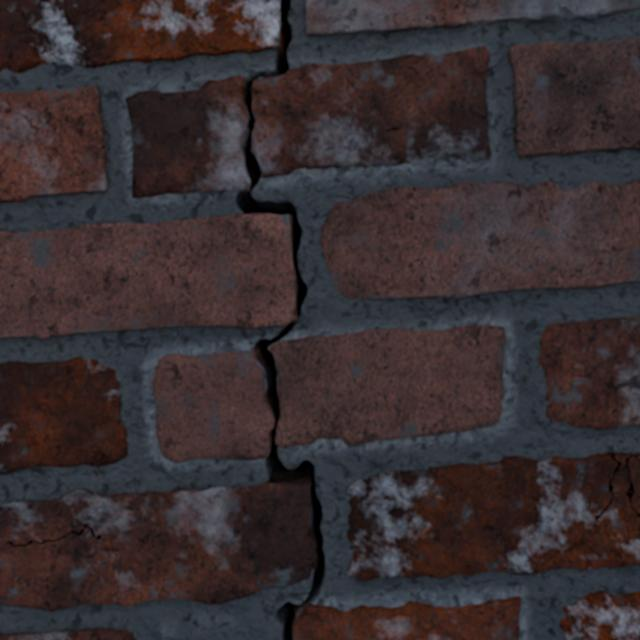broken_brick: (252, 46, 490, 177), (270, 325, 504, 448), (125, 76, 249, 197), (151, 351, 273, 462), (295, 596, 520, 639)
crack: (0, 0, 325, 639), (320, 179, 639, 299), (346, 452, 639, 580), (508, 38, 639, 157), (0, 357, 127, 474), (0, 86, 107, 202), (305, 0, 639, 35), (539, 316, 639, 430), (560, 591, 639, 639), (0, 628, 135, 639), (387, 127, 400, 131)
